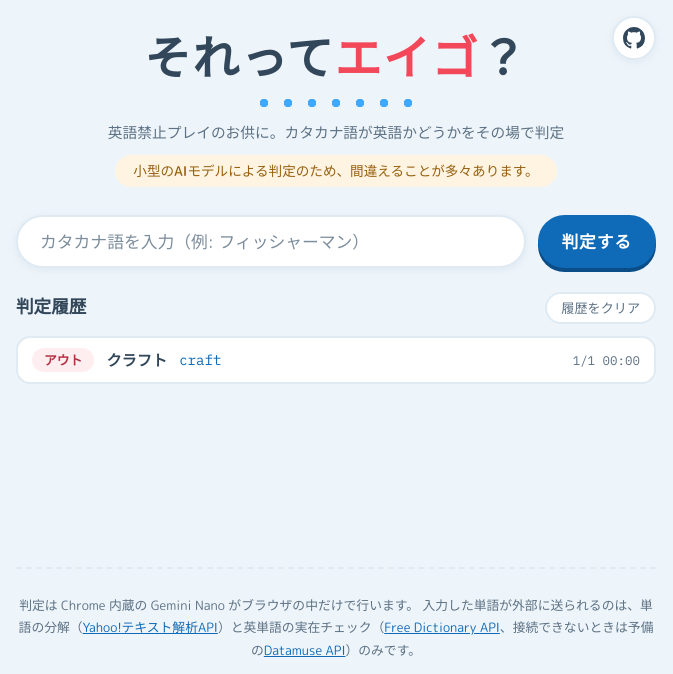
it: App › 保存済みの履歴を起動時に表示し、クリアできる
Expected: the text "クラフト" is shown, [106,348,167,372]
Click the button "履歴をクリア": [601, 308] box [545,292,656,324]
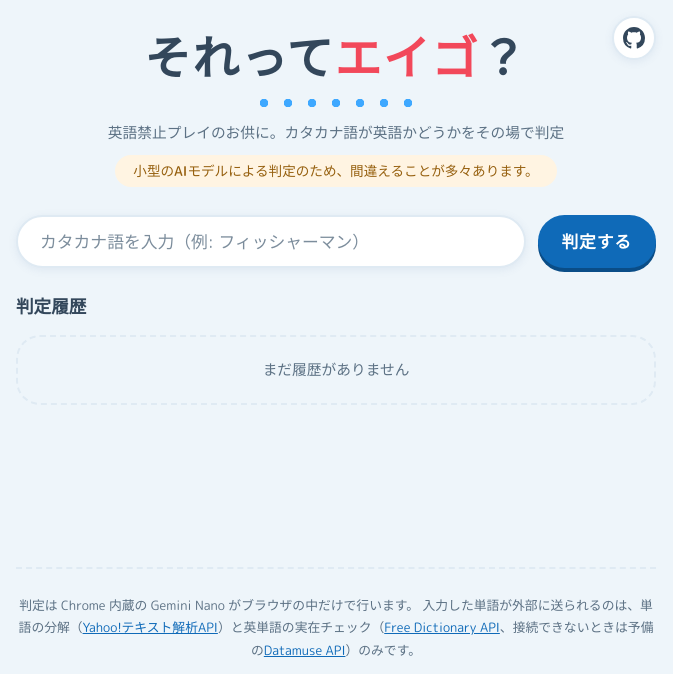
Expected: the button "クラフト" is gone
Expected: the text "まだ履歴がありません" is shown, [16,335,656,405]
